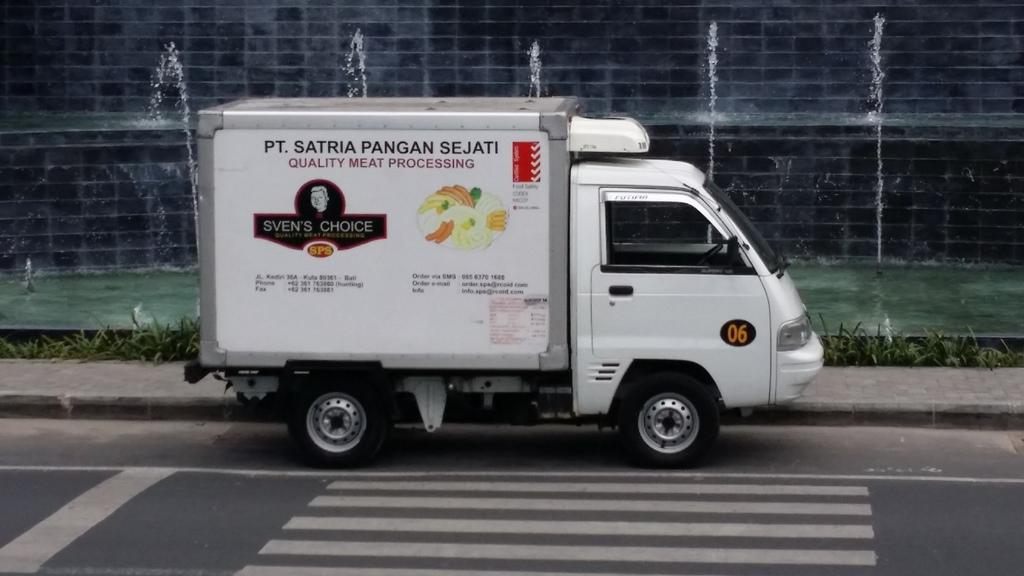Truck: (180, 107, 803, 485)
